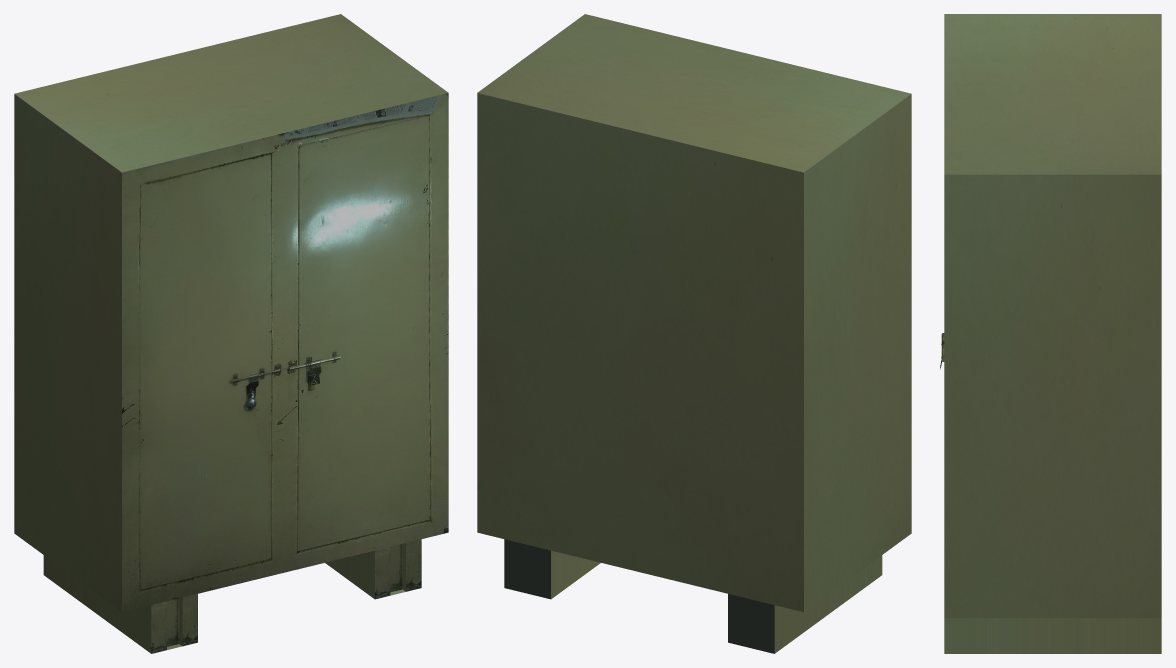
The model's file is Wardrobe.fbx.
The picture shows the model from 3 angles, left to right: view 1: azimuth 30°, elevation 25°; view 2: azimuth 150°, elevation 25°; view 3: azimuth 270°, elevation 25°; orthographic projection.
Visible parts, largest first — view 1: Cube; view 2: Cube; view 3: Cube.
Boxes of the visible parts, left/top/right/bottom form: Cube: left=14, top=14, right=448, bottom=653; Cube: left=477, top=14, right=911, bottom=653; Cube: left=940, top=14, right=1161, bottom=653.
Size of the model in its own units: 1400 by 2000 by 814.
1 material, 1 textured.
